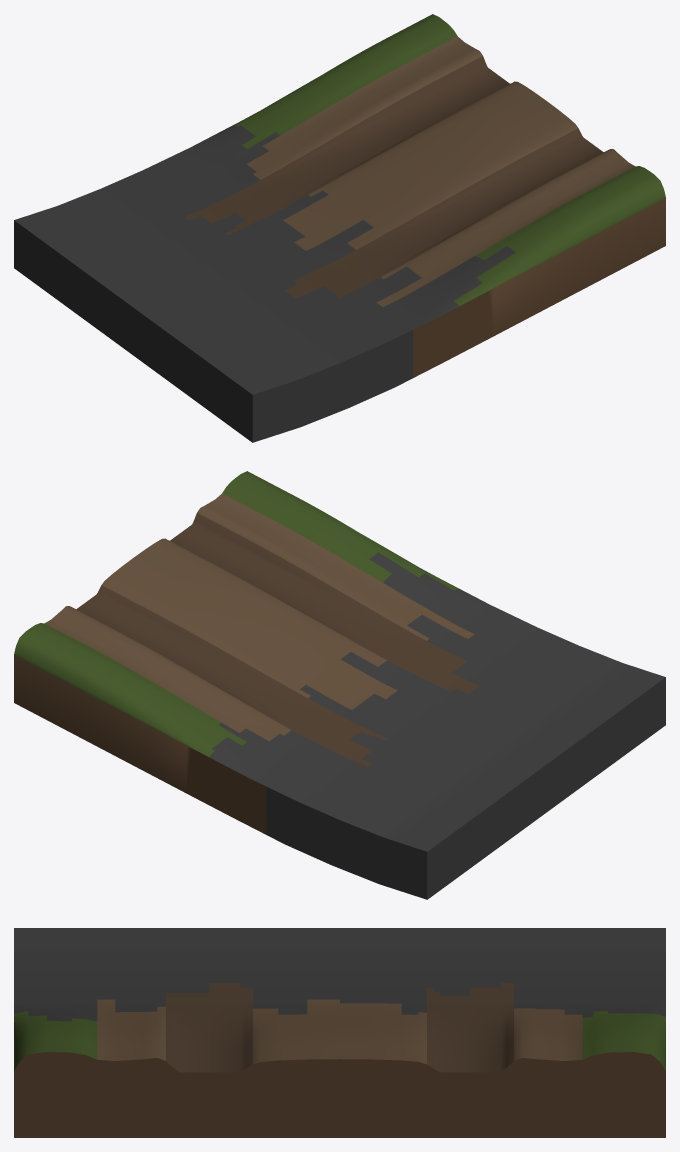
The picture shows the model from 3 angles, top to bottom: view 1: azimuth 30°, elevation 25°; view 2: azimuth 150°, elevation 25°; view 3: azimuth 270°, elevation 25°; orthographic projection. The views are drawn at different scales.
Parts seen in each view (by area): view 1: d1u; view 2: d1u; view 3: d1u.
Boxes of the visible parts, bbox=[...] form: d1u: bbox=[14, 14, 665, 442]; d1u: bbox=[14, 471, 665, 899]; d1u: bbox=[14, 928, 665, 1137].
Bounding box in the file's own units: 9 × 3.31 × 9.
